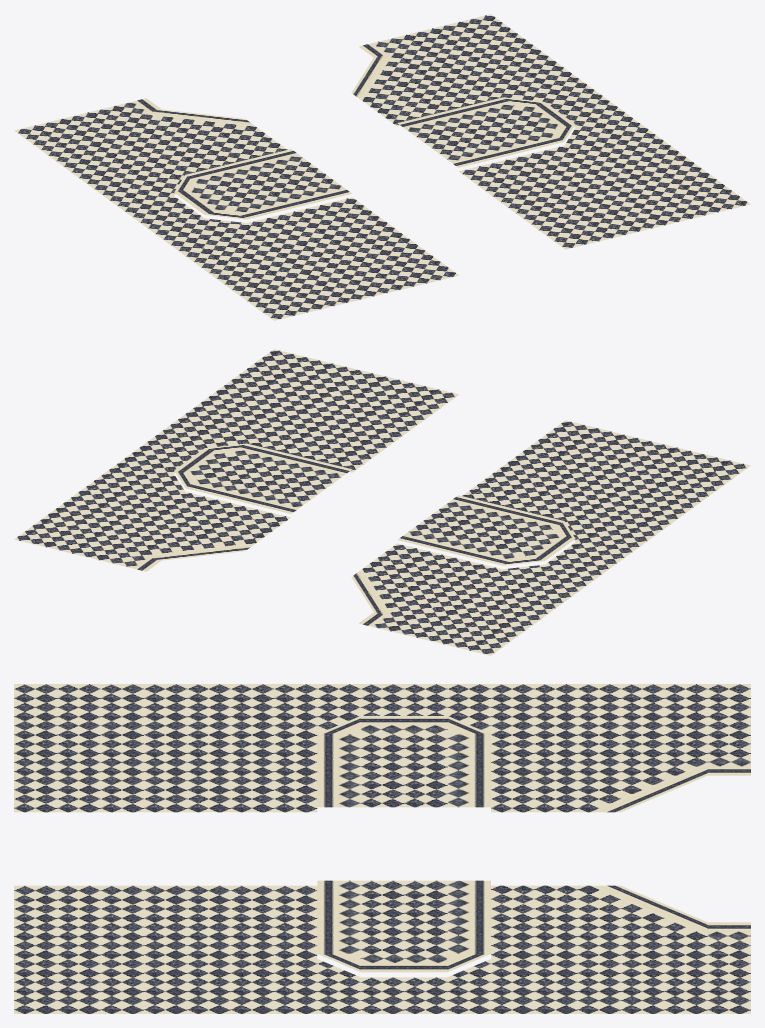
The model's file is ChaoReflexivo.fbx.
3 views of the same model, one above another, from view 1: azimuth 30°, elevation 25°; view 2: azimuth 150°, elevation 25°; view 3: azimuth 270°, elevation 25° (orthographic). The views are drawn at different scales.
Parts seen in each view (by area): view 1: ChaoReflexivo; view 2: ChaoReflexivo; view 3: ChaoReflexivo.
Part boxes in pixels (<box>): ChaoReflexivo: <box>14,14,750,320</box>; ChaoReflexivo: <box>14,349,750,655</box>; ChaoReflexivo: <box>14,684,750,1013</box>.
Bounding box in the file's own units: 18 × 0.125 × 17.
